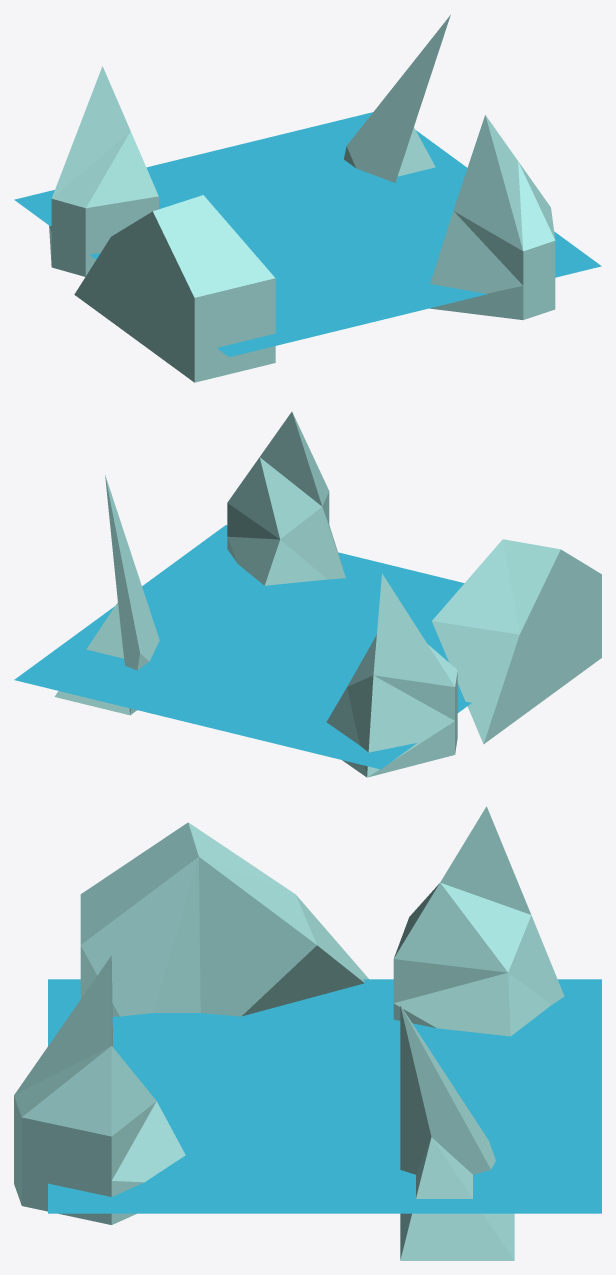
The model's file is Ground.obj.
The picture shows the model from 3 angles, top to bottom: view 1: azimuth 30°, elevation 25°; view 2: azimuth 150°, elevation 25°; view 3: azimuth 270°, elevation 25°; orthographic projection. The views are drawn at different scales.
Visible parts, largest first — view 1: 立方体.002; view 2: 立方体.002; view 3: 立方体.002.
Boxes of the visible parts, x1=… form: 立方体.002: x1=14, y1=15, x2=601, y2=382; 立方体.002: x1=14, y1=412, x2=601, y2=777; 立方体.002: x1=14, y1=806, x2=601, y2=1260.
Bounding box in the file's own units: 6.68 × 3.17 × 6.7.
5 materials, 5 textured.
